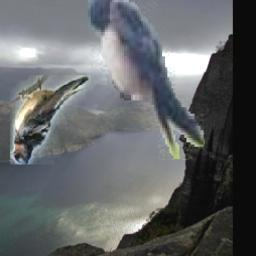Swallow: (88, 0, 205, 160), (10, 76, 107, 166)
